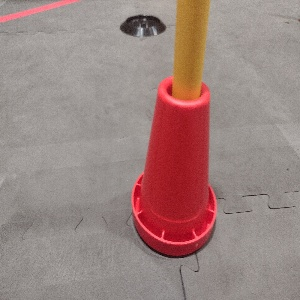Red_1: (130, 73, 218, 258)
